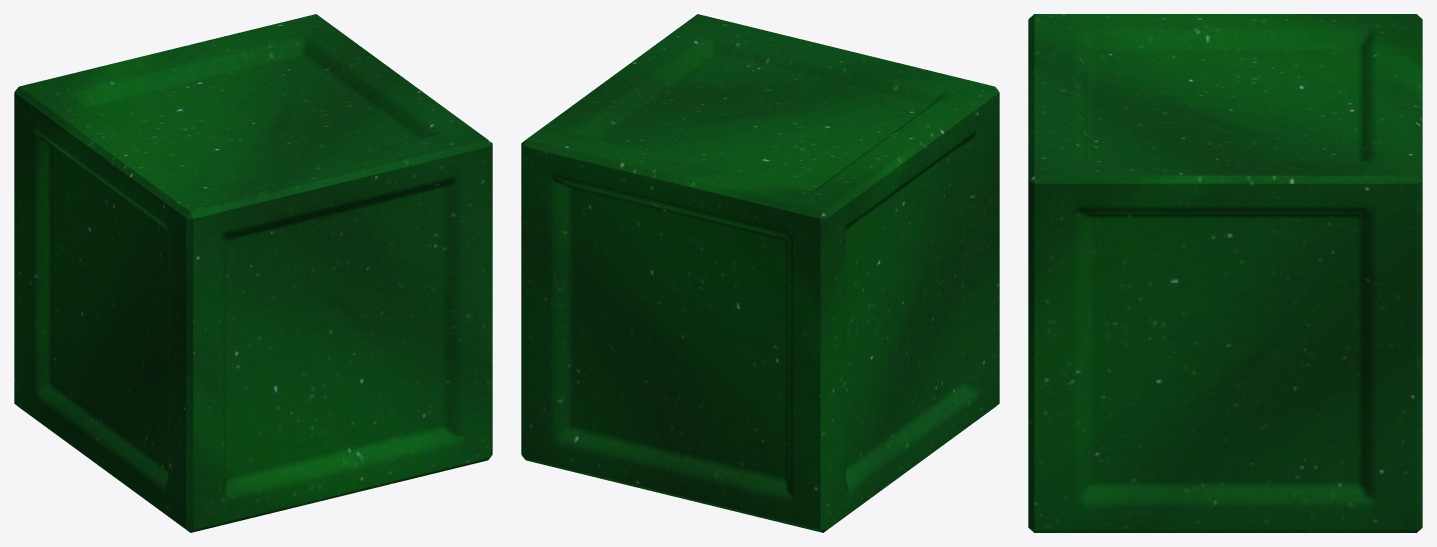
File: gbox.fbx
The picture shows the model from 3 angles, left to right: view 1: azimuth 30°, elevation 25°; view 2: azimuth 150°, elevation 25°; view 3: azimuth 270°, elevation 25°; orthographic projection. The views are drawn at different scales.
Visible parts, largest first — view 1: pCube162; view 2: pCube162; view 3: pCube162.
Part boxes in pixels (bbox=[...]): pCube162: bbox=[14, 14, 492, 532]; pCube162: bbox=[521, 14, 999, 532]; pCube162: bbox=[1028, 14, 1422, 532].
Bounding box in the file's own units: 53.81 × 53.81 × 53.81.
